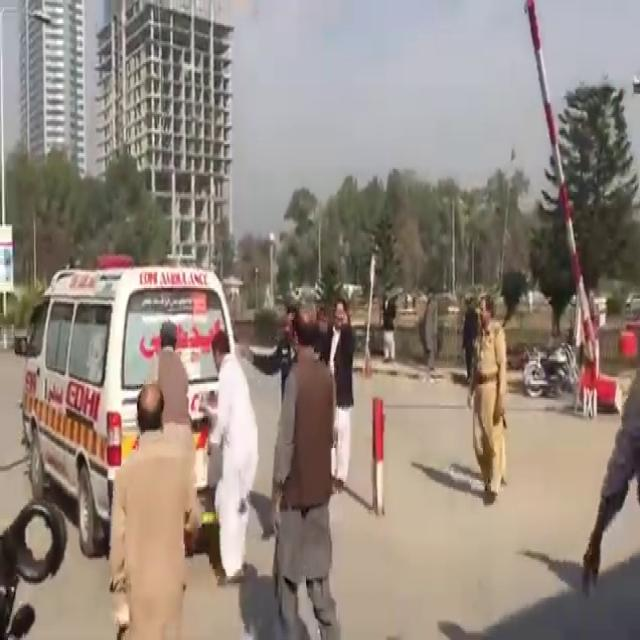ambulance: (11, 267, 268, 496)
